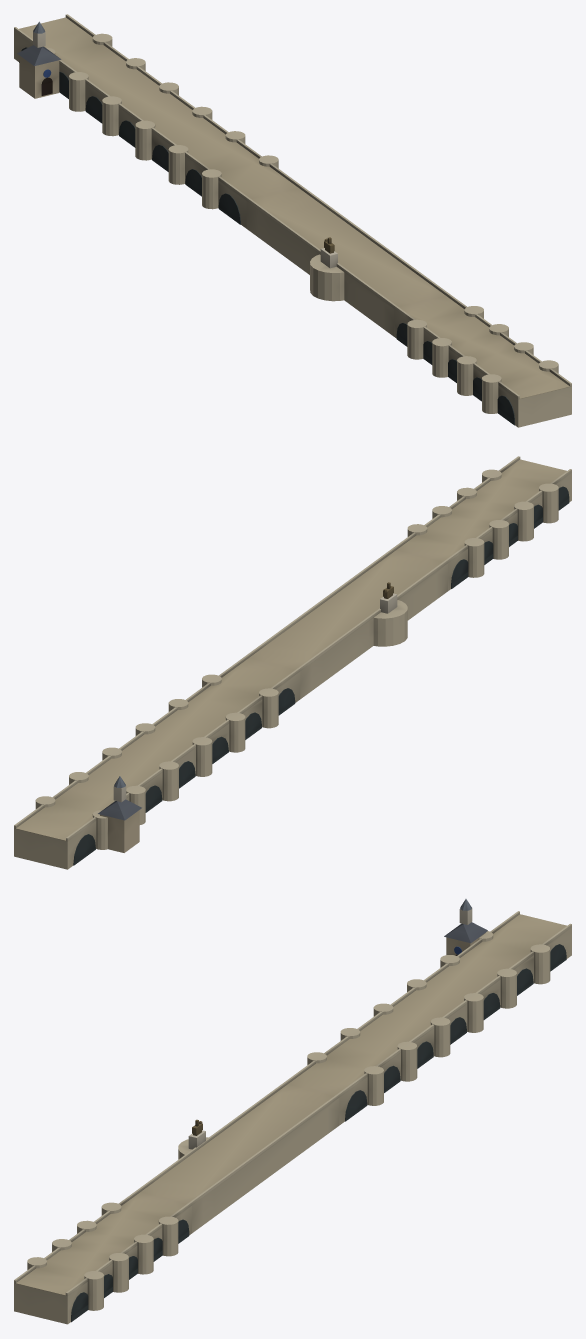
The model's file is pont-neuf.glb.
The picture shows the model from 3 angles, top to bottom: view 1: azimuth 30°, elevation 25°; view 2: azimuth 150°, elevation 25°; view 3: azimuth 330°, elevation 25°; orthographic projection.
Visible parts, largest first — view 1: p0_arches, p1_statue; view 2: p0_arches, p1_statue; view 3: p0_arches, p1_statue.
Part boxes in pixels (<box>): p0_arches: <box>14,14,571,427</box>; p1_statue: <box>17,21,344,301</box>; p0_arches: <box>14,456,571,869</box>; p1_statue: <box>98,582,407,852</box>; p0_arches: <box>14,911,571,1324</box>; p1_statue: <box>178,899,487,1159</box>.
Bounding box in the file's own units: 33.89 × 24.5 × 325.
